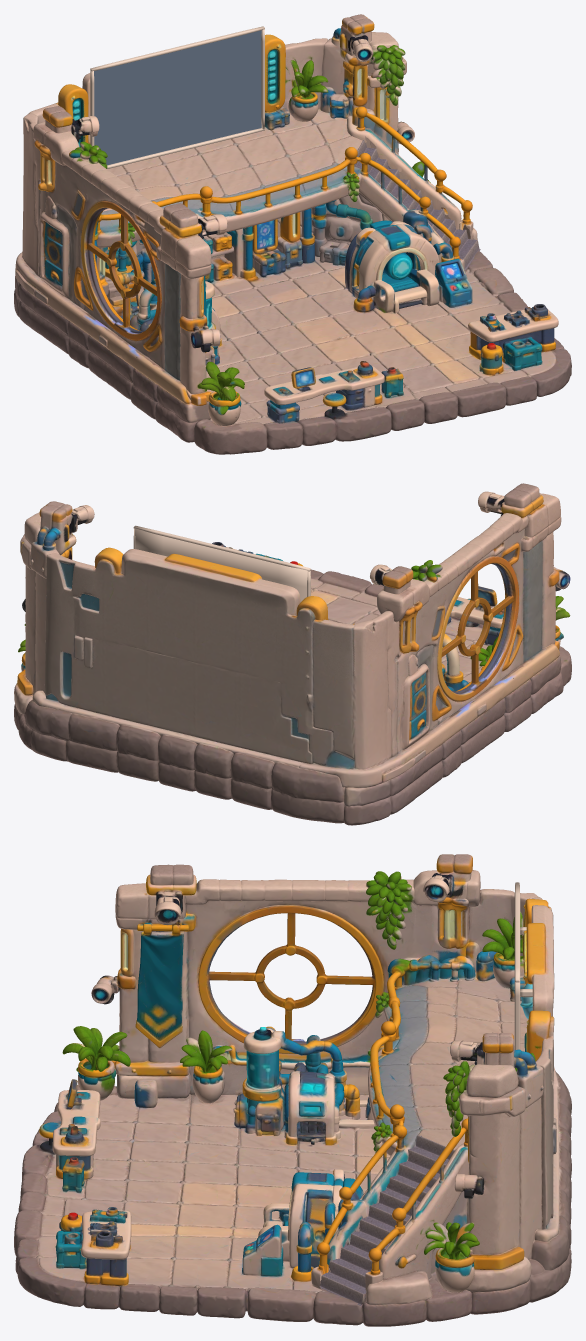
File: kfb-meshy-utopia-stage.screen-a.v2.glb
3 renders of one model, top to bottom at view 1: azimuth 30°, elevation 25°; view 2: azimuth 150°, elevation 25°; view 3: azimuth 270°, elevation 25°, orthographic. The views are drawn at different scales.
Visible parts, largest first — view 1: utopia_stage, kfb_screen_slot, kfb_screen_frame; view 2: utopia_stage, kfb_screen_frame; view 3: utopia_stage, kfb_screen_frame.
Boxes of the visible parts, x1,y1,x2,y2 form: utopia_stage: [14, 14, 571, 454]; kfb_screen_slot: [94, 30, 261, 165]; kfb_screen_frame: [90, 26, 264, 168]; utopia_stage: [14, 483, 571, 825]; kfb_screen_frame: [133, 525, 310, 602]; utopia_stage: [14, 854, 571, 1326]; kfb_screen_frame: [514, 882, 532, 1049].
Size of the model in its own units: 1.84 by 1 by 1.9.
4 materials, 2 textured.
